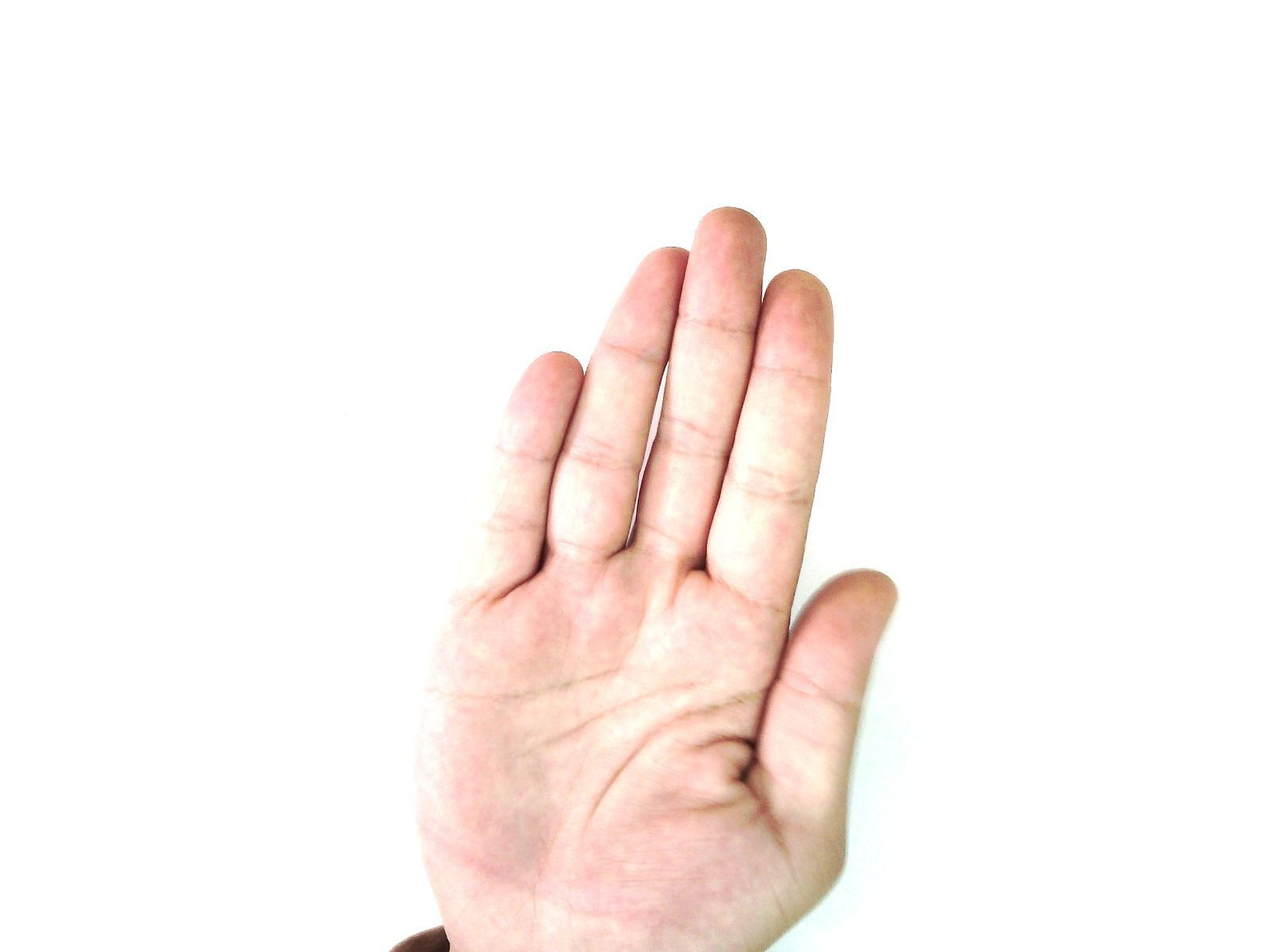open_palm: (408, 205, 901, 951)
